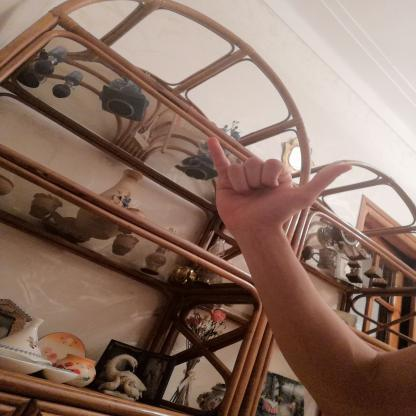YA: (190, 122, 362, 242)
